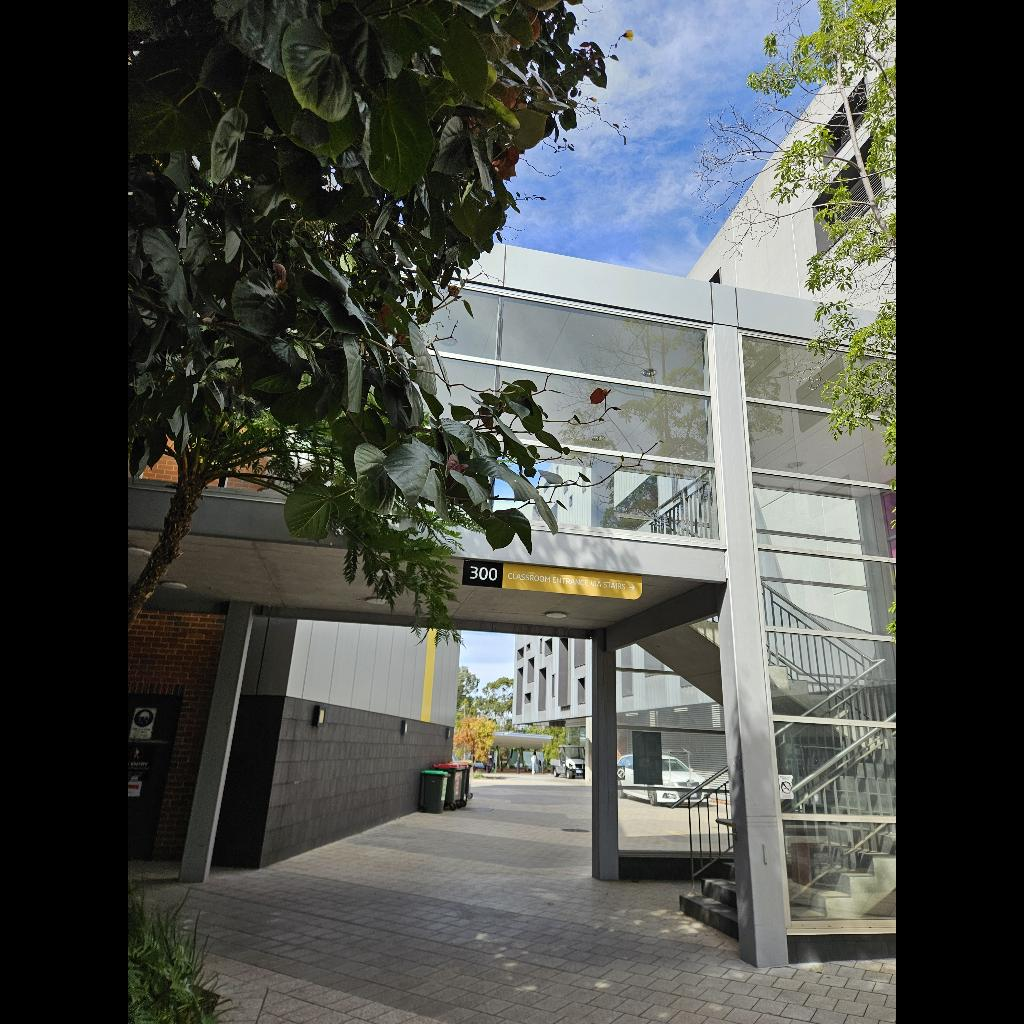BuildingCodes: (469, 567, 497, 581)
